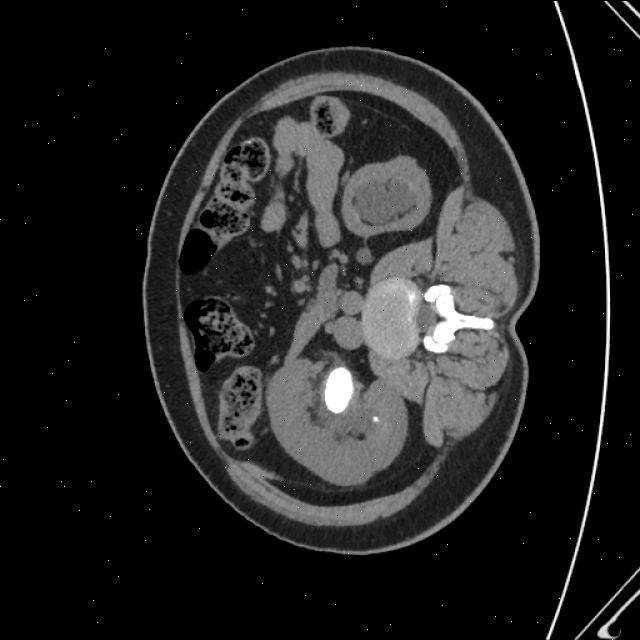kidneystone: (325, 366, 353, 412), (372, 415, 379, 422)
